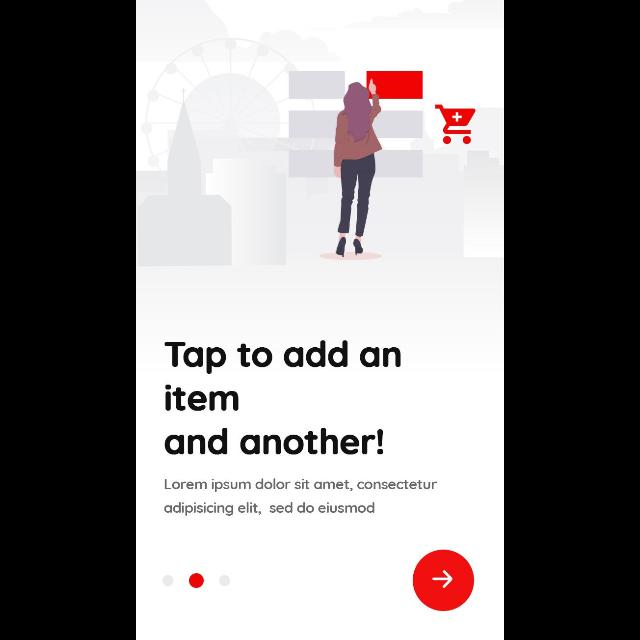icon: (412, 548, 476, 612)
image: (136, 1, 504, 267)
pageindicator: (162, 572, 232, 588)
text: (164, 339, 402, 456), (164, 478, 438, 516)
